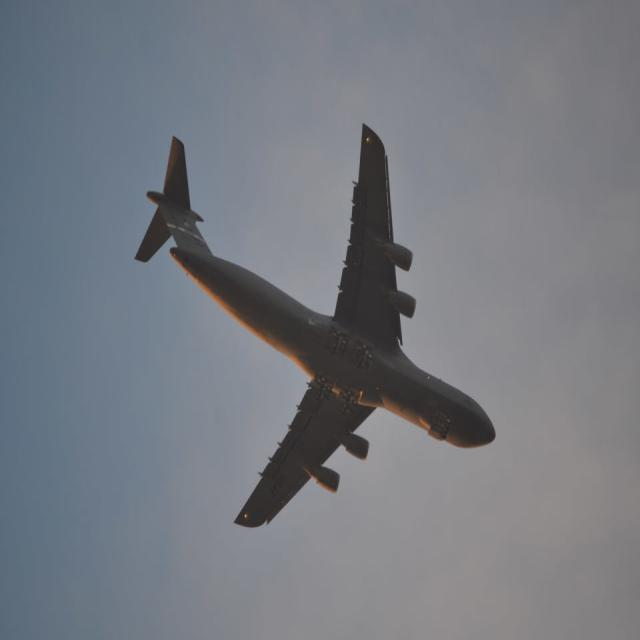MIL_Plane: (133, 122, 496, 528)
